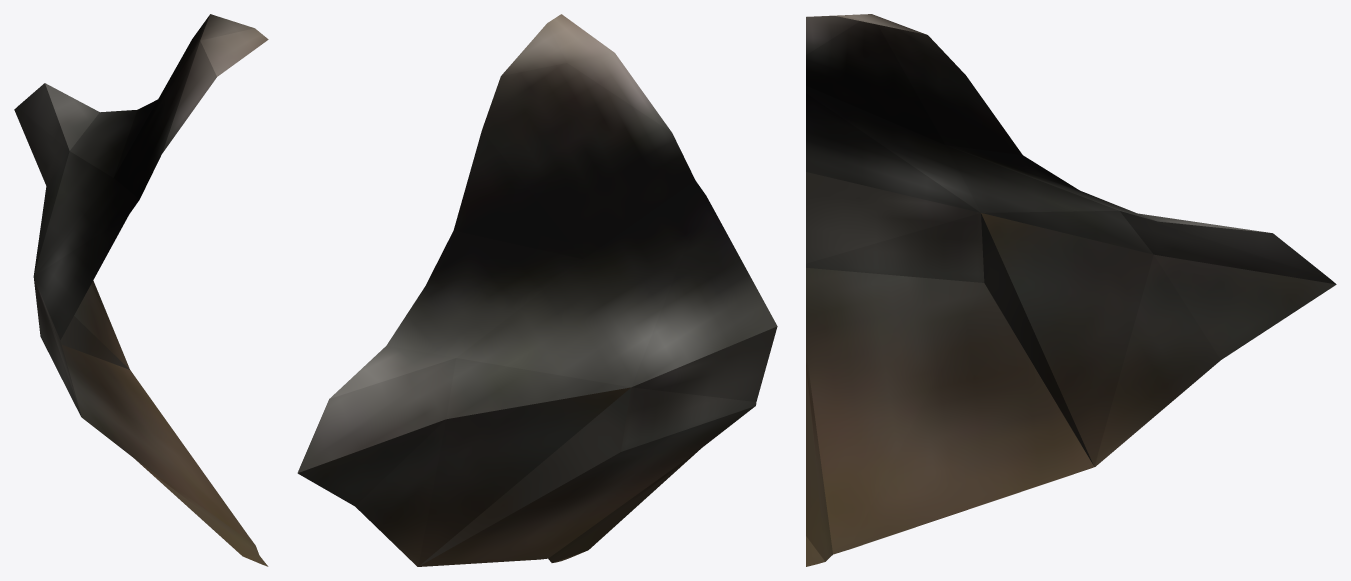
3 views of the same model, side by side, from view 1: azimuth 30°, elevation 25°; view 2: azimuth 150°, elevation 25°; view 3: azimuth 270°, elevation 25° (orthographic). The views are drawn at different scales.
Bounding box in the file's own units: 0.0926 × 0.2245 × 0.1959.
1 material, 1 textured.
